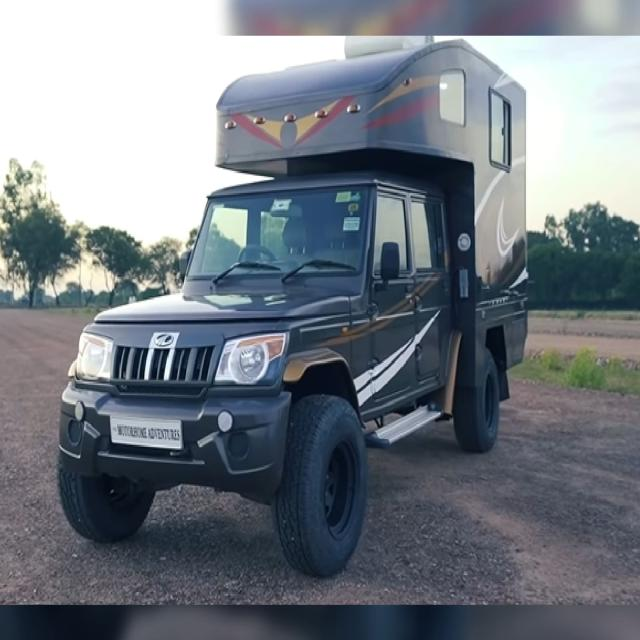light_vehicle: (59, 192, 422, 548)
